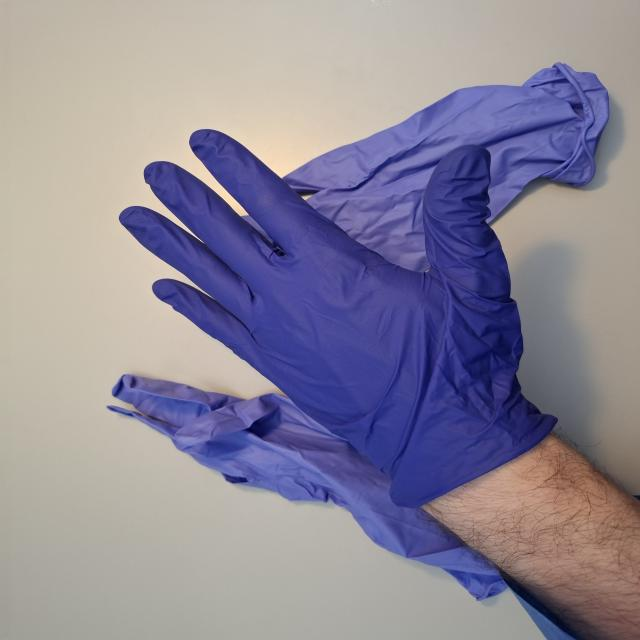glove_on: (112, 126, 556, 502)
